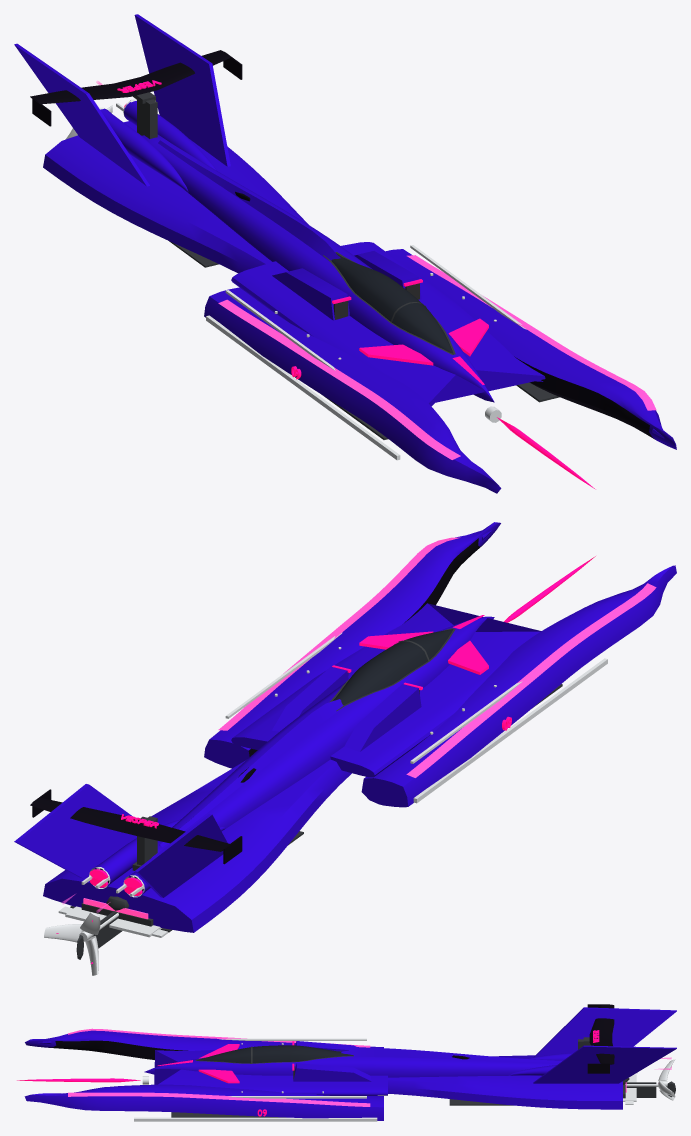
The model's file is vesper.glb.
3 views of the same model, one above another, from view 1: azimuth 30°, elevation 25°; view 2: azimuth 150°, elevation 25°; view 3: azimuth 270°, elevation 25° (orthographic). The views are drawn at different scales.
Visible parts, largest first — view 1: Afterplane, Sponson_L, TunnelDeck, Cowling, Sponson_R, TailFin_R, CanopyGlass, TailFin_L, BoostStrip_L, RearWing, DorsalSpine, BoostPod_0 (+8 smaller); view 2: Sponson_L, Afterplane, TunnelDeck, Cowling, Sponson_R, TailFin_R, CanopyGlass, TailFin_L, BoostStrip_L, RearWing, IntakeDuct_L, DorsalSpine (+6 smaller); view 3: Sponson_R, Afterplane, Cowling, TunnelDeck, Sponson_L, TailFin_L, TailFin_R, CanopyGlass, DorsalSpine, BoostStrip_R, IntakeDuct_R, SprayRail_R (+14 smaller).
Part boxes in pixels (x1,y1,x2,y2): Afterplane: (43, 121, 308, 273); Sponson_L: (204, 287, 501, 493); TunnelDeck: (231, 242, 545, 406); Cowling: (142, 134, 494, 402); Sponson_R: (385, 249, 676, 449); TailFin_R: (134, 14, 230, 166); CanopyGlass: (331, 253, 453, 354); TailFin_L: (14, 43, 149, 186); BoostStrip_L: (218, 299, 460, 459); RearWing: (30, 50, 230, 104); DorsalSpine: (158, 140, 340, 261); BoostPod_0: (100, 108, 188, 192); Sponson_L: (361, 565, 676, 807); Afterplane: (43, 759, 351, 932); TunnelDeck: (231, 603, 541, 777); Cowling: (152, 616, 494, 857); Sponson_R: (204, 522, 500, 768); TailFin_R: (14, 784, 136, 878); CanopyGlass: (333, 629, 453, 705); TailFin_L: (135, 814, 227, 897); BoostStrip_L: (406, 583, 656, 777); RearWing: (30, 797, 230, 851); IntakeDuct_L: (345, 684, 421, 751); DorsalSpine: (159, 699, 345, 847); Sponson_R: (24, 1084, 383, 1120); Afterplane: (388, 1055, 622, 1109); Cowling: (144, 1050, 562, 1077); TunnelDeck: (154, 1050, 387, 1095); Sponson_L: (25, 1030, 383, 1059); TailFin_L: (533, 1007, 676, 1057); TailFin_R: (533, 1045, 676, 1083); CanopyGlass: (197, 1045, 353, 1063); DorsalSpine: (341, 1048, 562, 1062); BoostStrip_R: (68, 1092, 370, 1106); IntakeDuct_R: (293, 1063, 371, 1081); SprayRail_R: (134, 1117, 377, 1121).
Bounding box in the file's own units: 2.03 × 1.05 × 8.13.
